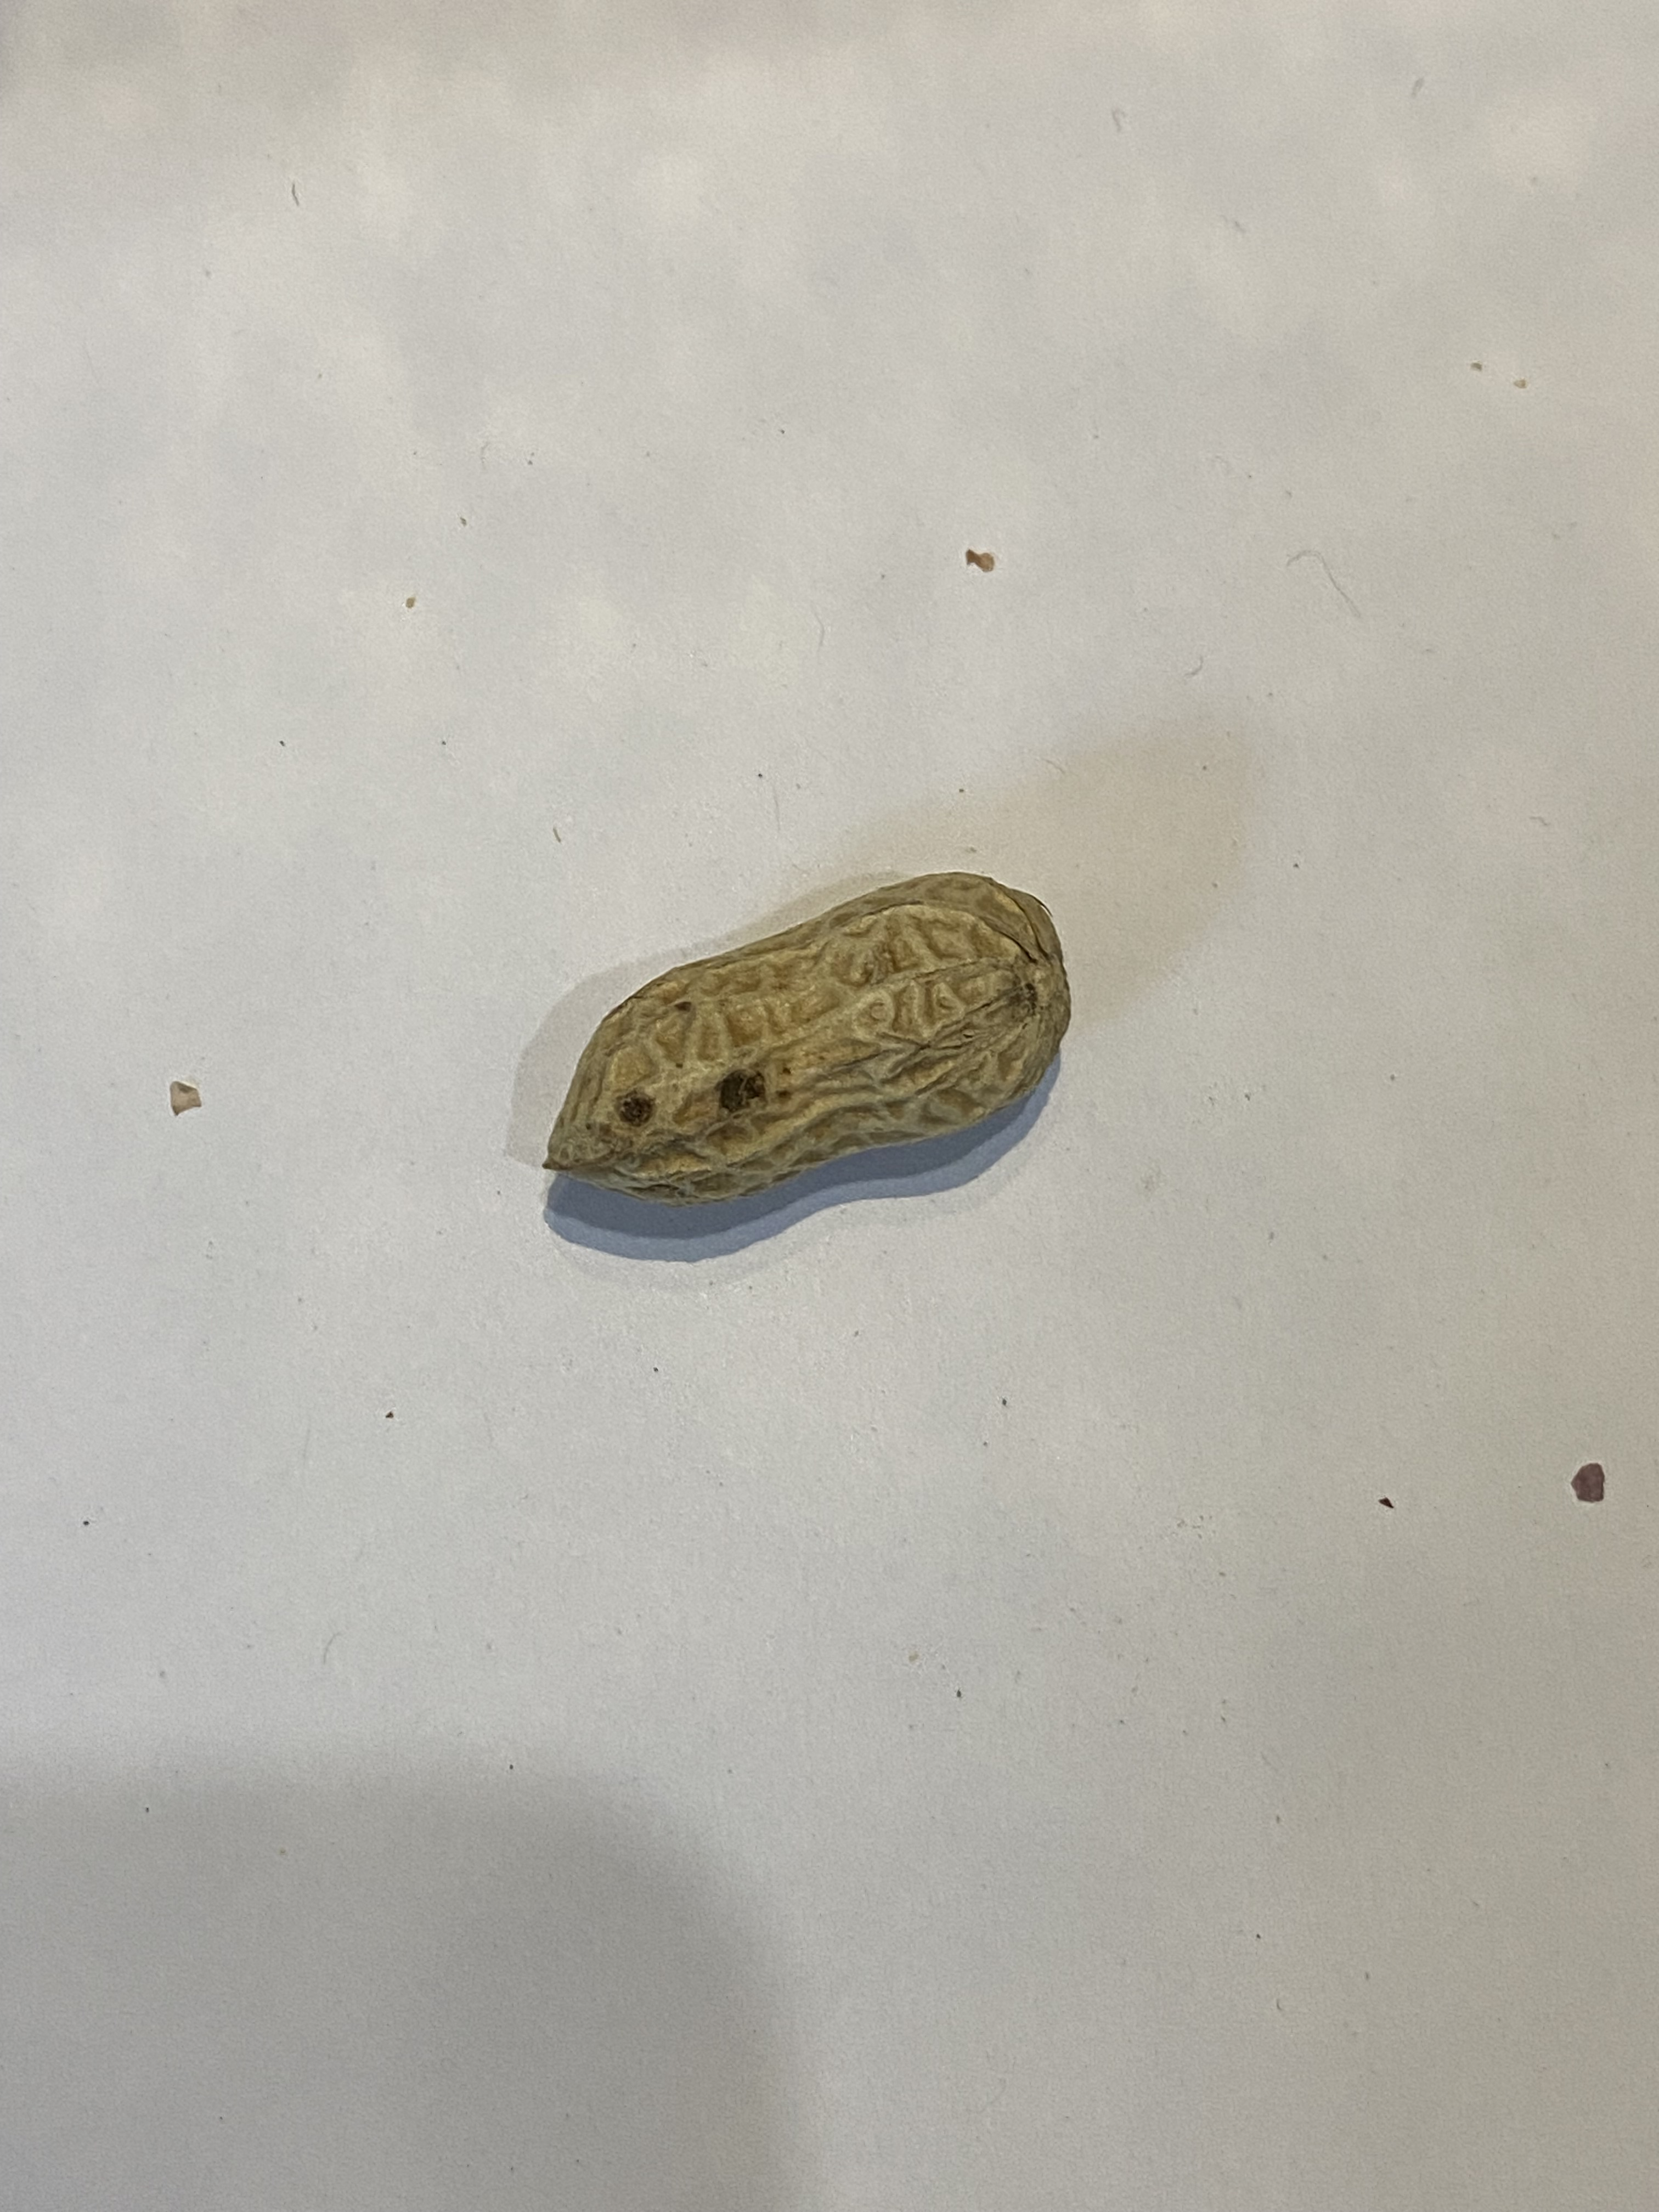kacang2: (483, 864, 1103, 1214)
